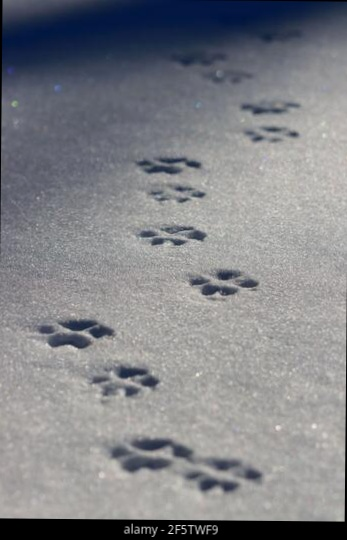fox: (80, 418, 284, 514), (181, 258, 281, 315), (31, 310, 117, 364)
